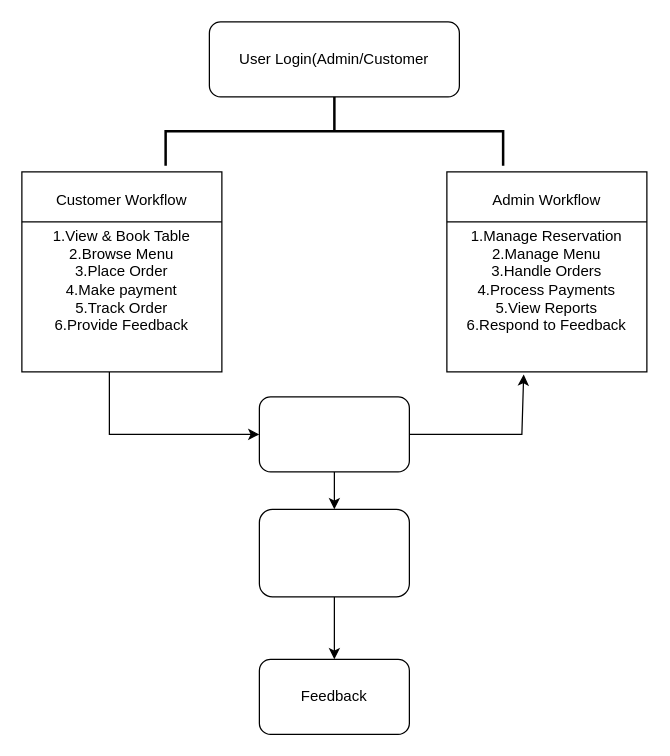
Some shapes in this 670 by 756 pixel diagram are drawn without their labels. Each missing label, with the centre of its shape:
"Order Processing" goes at pixel 333 434.
"Payment" goes at pixel 333 552.
